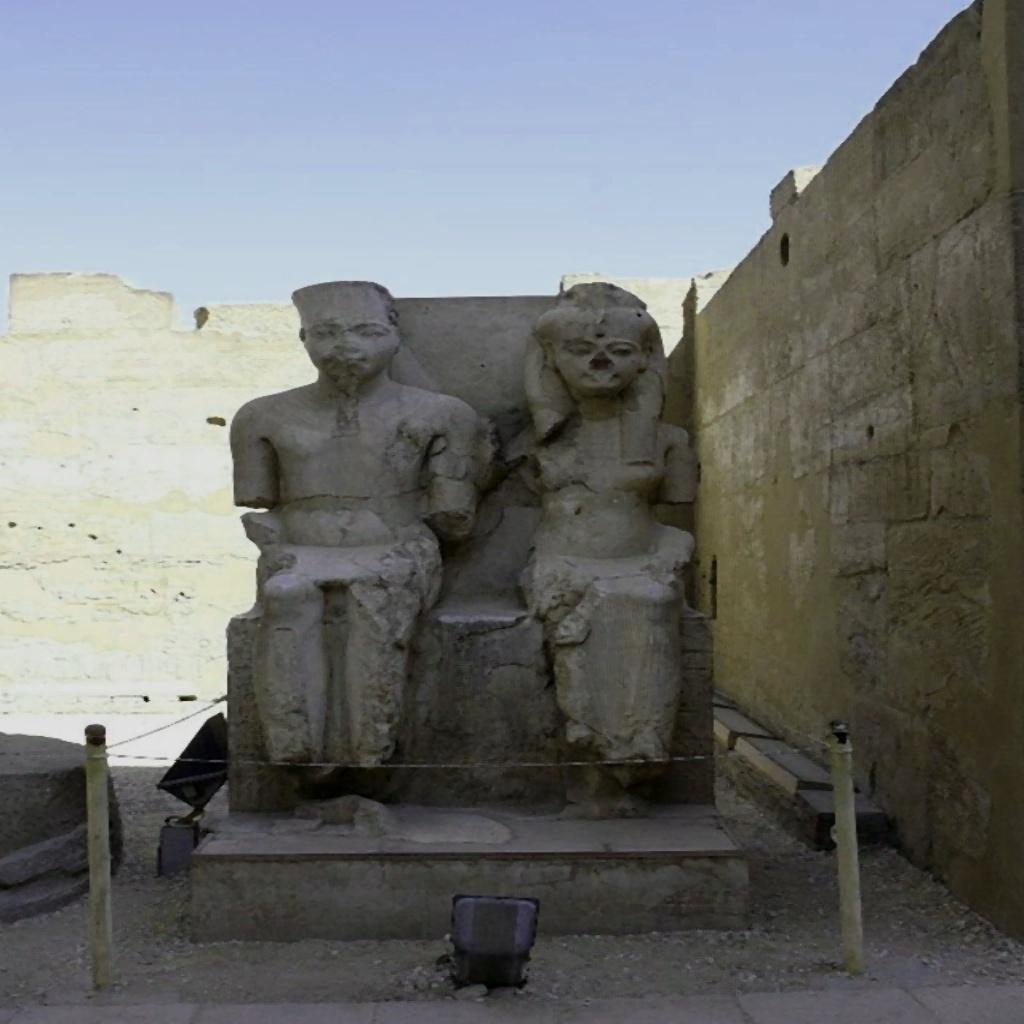Statue of Ankhesenamun: (490, 280, 708, 772)
Statue of Tutankhamun: (232, 277, 482, 777)
